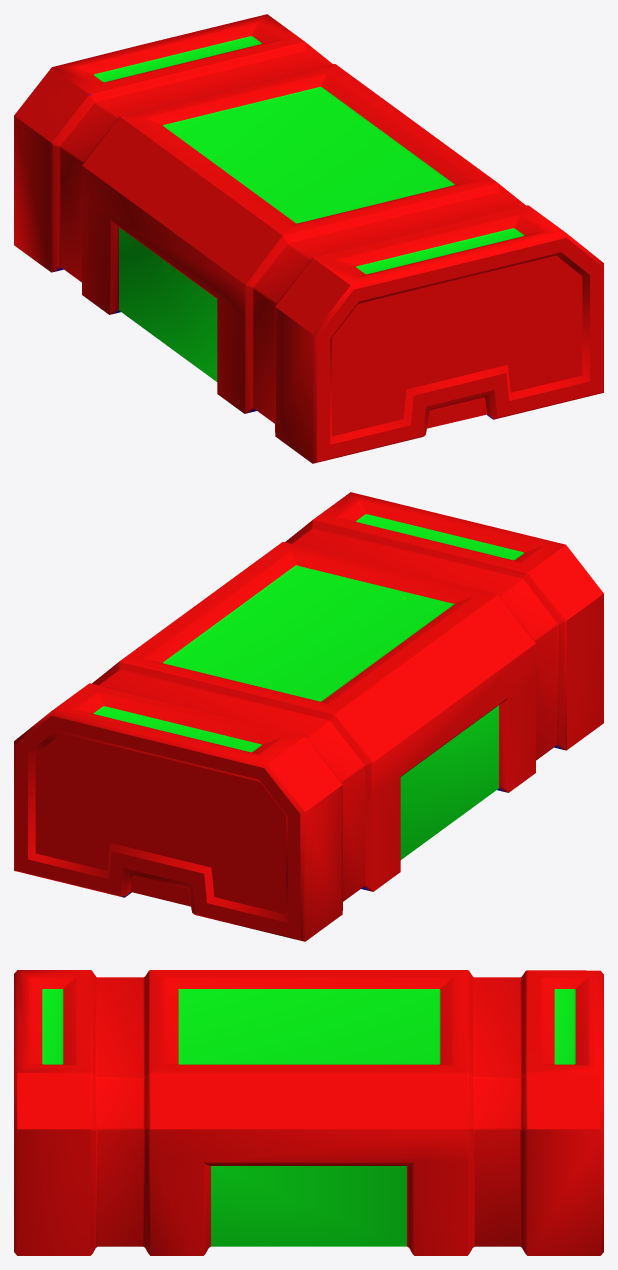
3 renders of one model, top to bottom at view 1: azimuth 30°, elevation 25°; view 2: azimuth 150°, elevation 25°; view 3: azimuth 270°, elevation 25°, orthographic. The views are drawn at different scales.
Visible parts, largest first — view 1: Box002; view 2: Box002; view 3: Box002.
Boxes of the visible parts, left/top/right/bottom form: Box002: left=14, top=14, right=603, bottom=463; Box002: left=14, top=492, right=603, bottom=941; Box002: left=14, top=970, right=603, bottom=1255.
Bounding box in the file's own units: 68.95 × 38.3 × 124.
